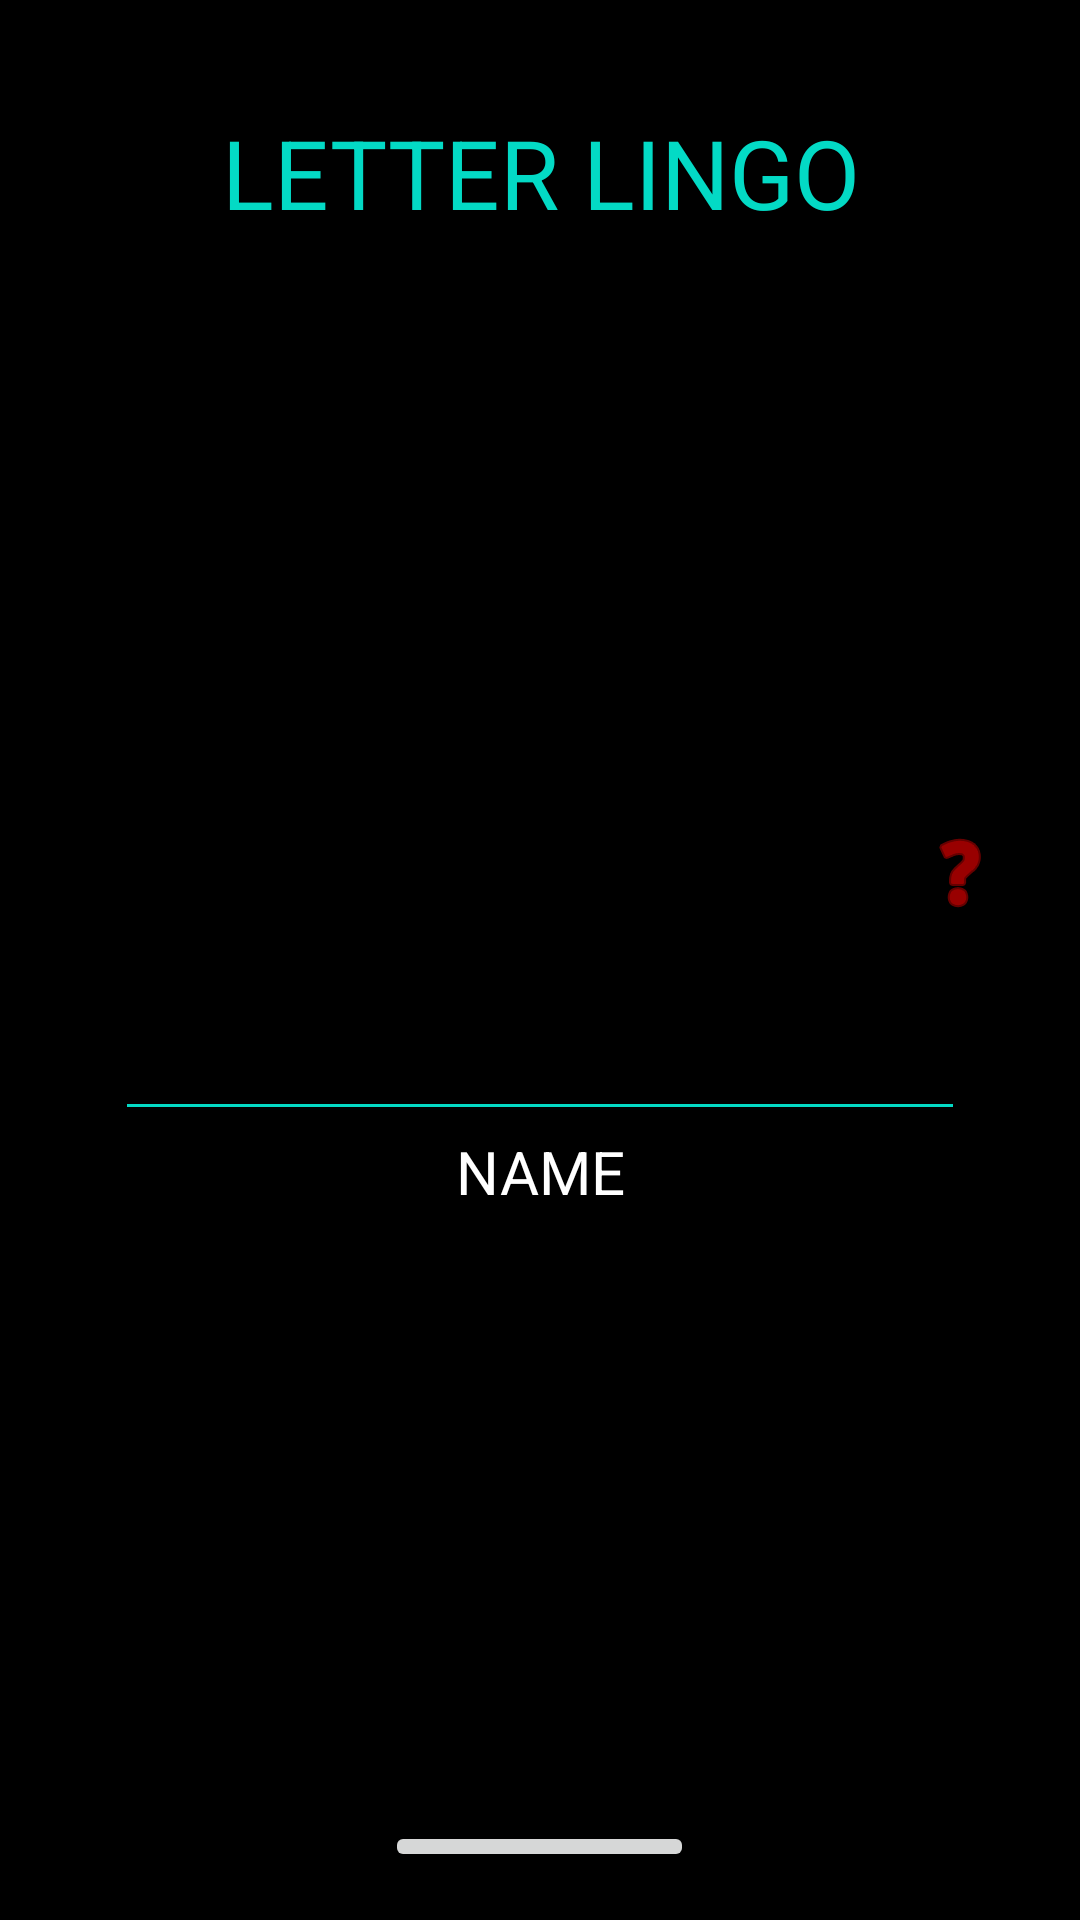

Screen size 1080 x 1920. Icon name, then its center in pixels as point (x, y):
help: point (960, 873)
